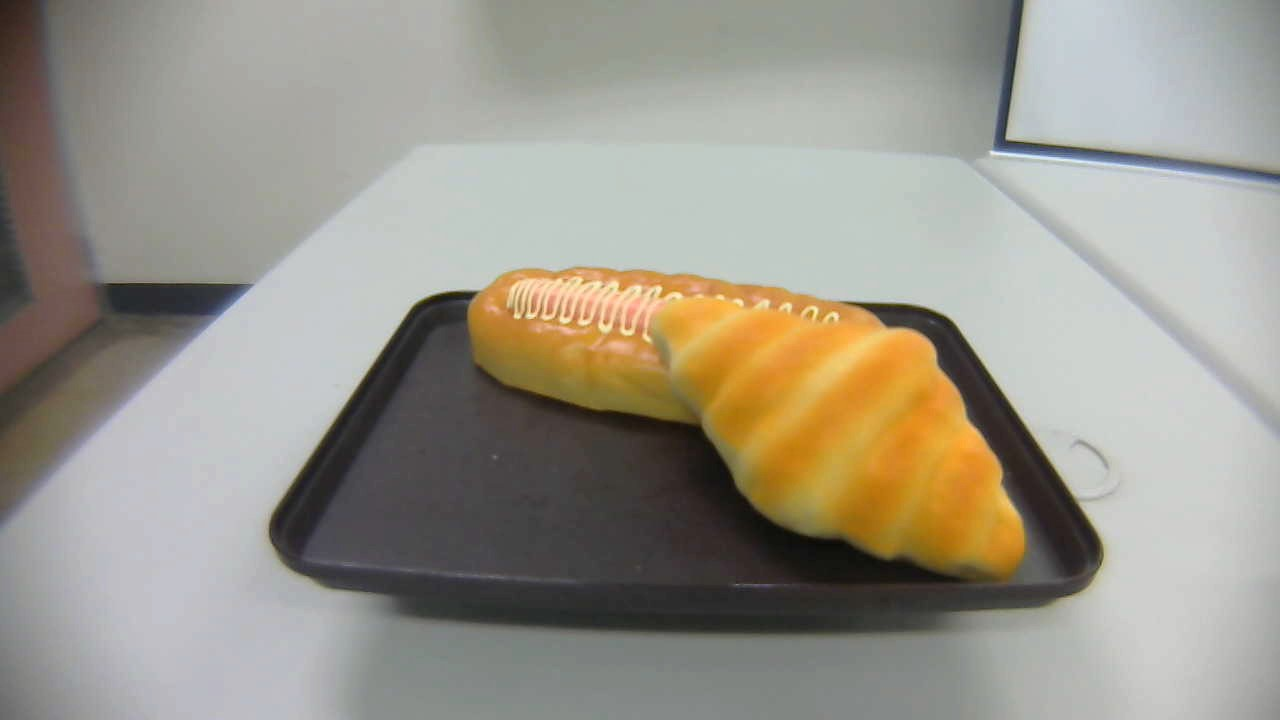croissant: (655, 298, 1026, 585)
hot dog: (467, 268, 890, 425)
